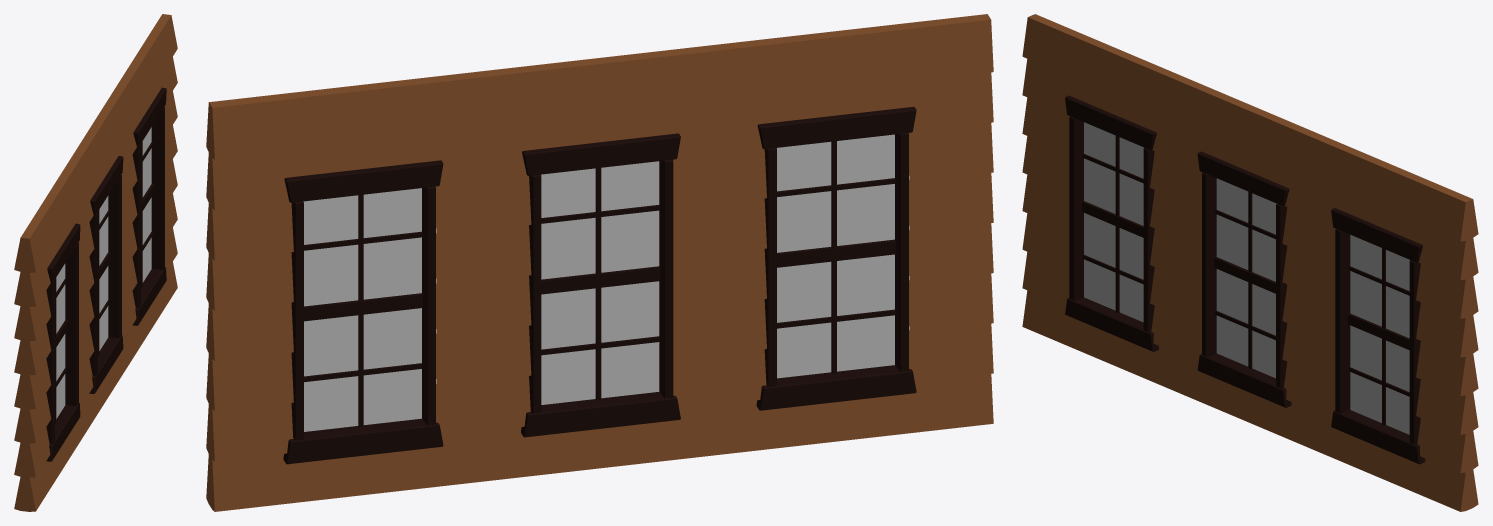
File: ww_window_b.glb
3 views of the same model, side by side, from view 1: azimuth 30°, elevation 25°; view 2: azimuth 150°, elevation 25°; view 3: azimuth 270°, elevation 25° (orthographic). The views are drawn at different scales.
Visible parts, largest first — view 1: Window_B; view 2: Window_B; view 3: Window_B.
Part boxes in pixels (x1,y1,x2,y2): Window_B: (14,14,177,511); Window_B: (206,14,993,511); Window_B: (1022,14,1478,511).
Bounding box in the file's own units: 4.71 × 3.52 × 4.71.
